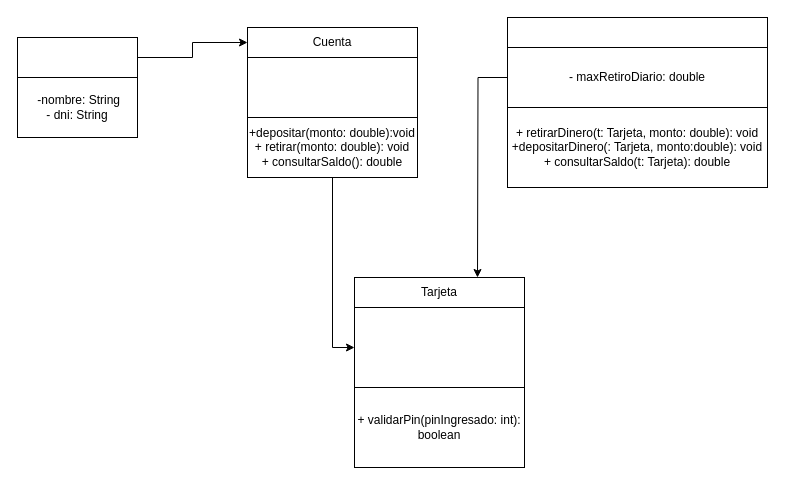
This 785x485 diagram has some shape labels left out. The shapes that lost their labels are listed below. From the top down, each one's box as (x1, y1, x2, y2) in pixels, then its label:
(506, 16, 768, 48): CajeroAutomatico
(16, 36, 138, 78): Cliente
(246, 56, 418, 118): -numeroCuenta: String - saldo: double - titular: cliente
(354, 306, 524, 388): - numeroTarjeta: String - pin: int - intentos: int = 3 - cuenta: Cuenta
